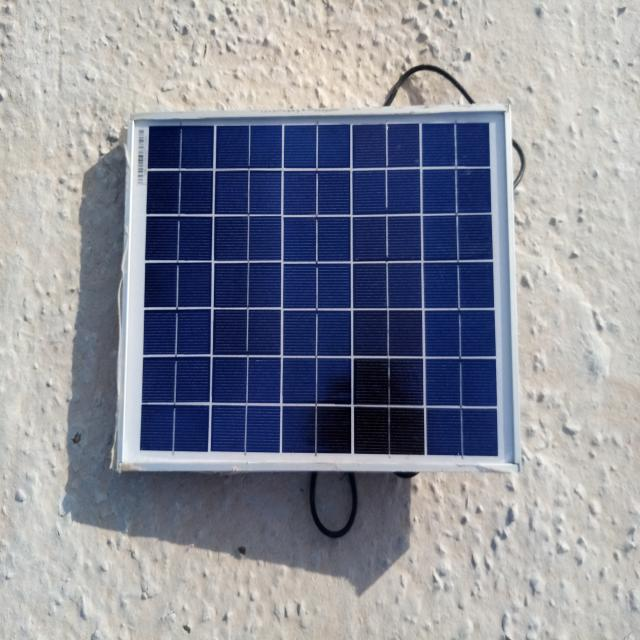no faulty: (119, 108, 519, 469)
